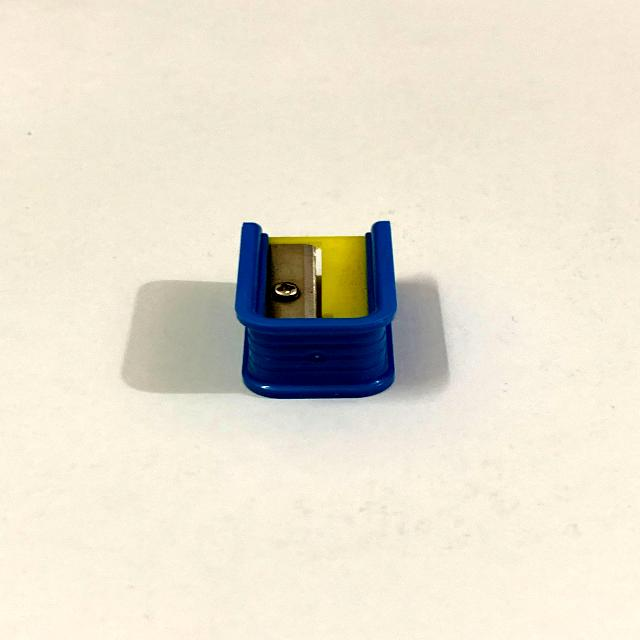Sharpner: (197, 198, 436, 412)
